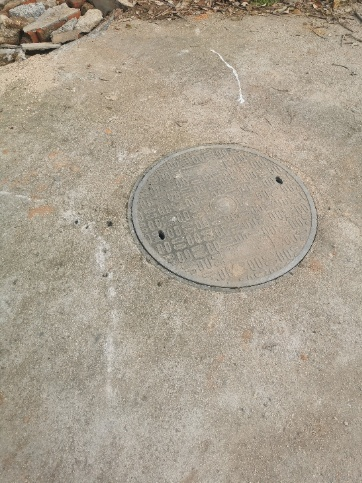good: (127, 144, 319, 291)
